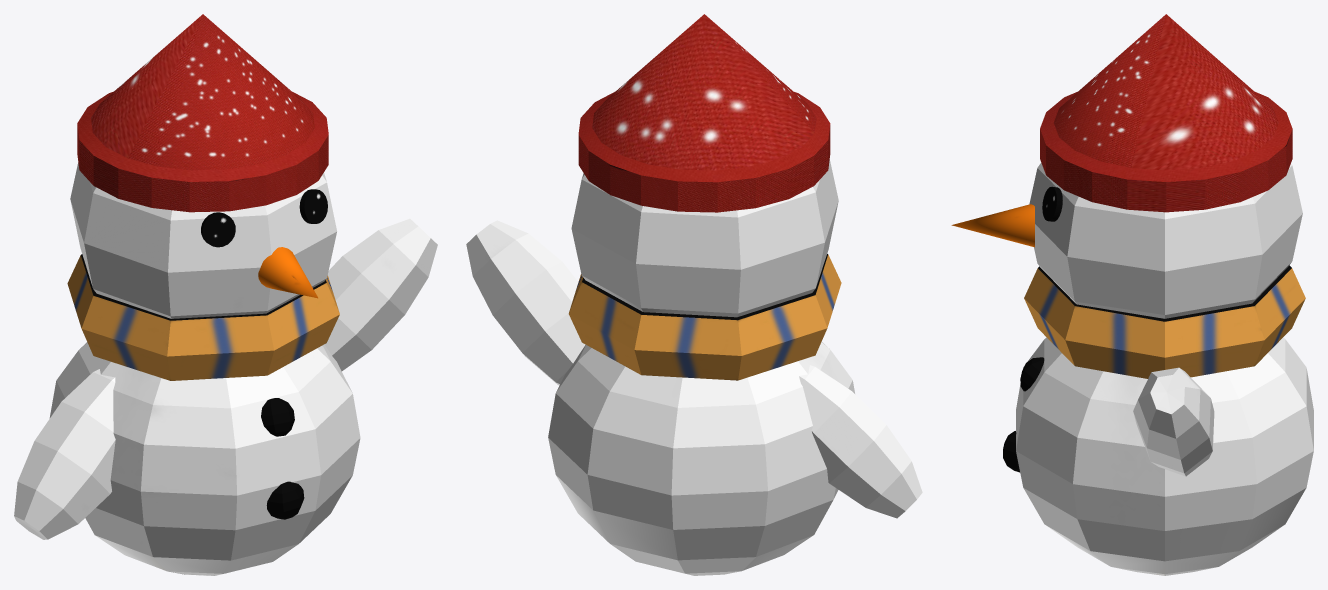
File: Snowman.fbx
The picture shows the model from 3 angles, left to right: view 1: azimuth 30°, elevation 25°; view 2: azimuth 150°, elevation 25°; view 3: azimuth 270°, elevation 25°; orthographic projection.
Parts seen in each view (by area): view 1: pCone1; view 2: pCone1; view 3: pCone1.
Boxes of the visible parts, x1,y1,x2,y2 form: pCone1: [14, 14, 437, 575]; pCone1: [466, 14, 922, 575]; pCone1: [951, 14, 1313, 575].
Size of the model in its own units: 7.53 by 8.97 by 5.45.
